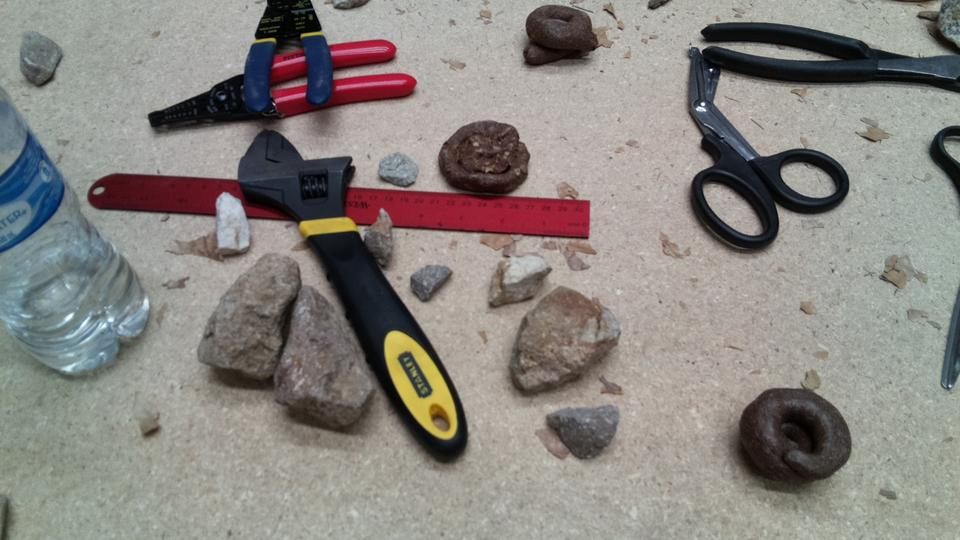poop: (732, 381, 859, 490), (434, 116, 536, 198), (518, 3, 601, 73)
